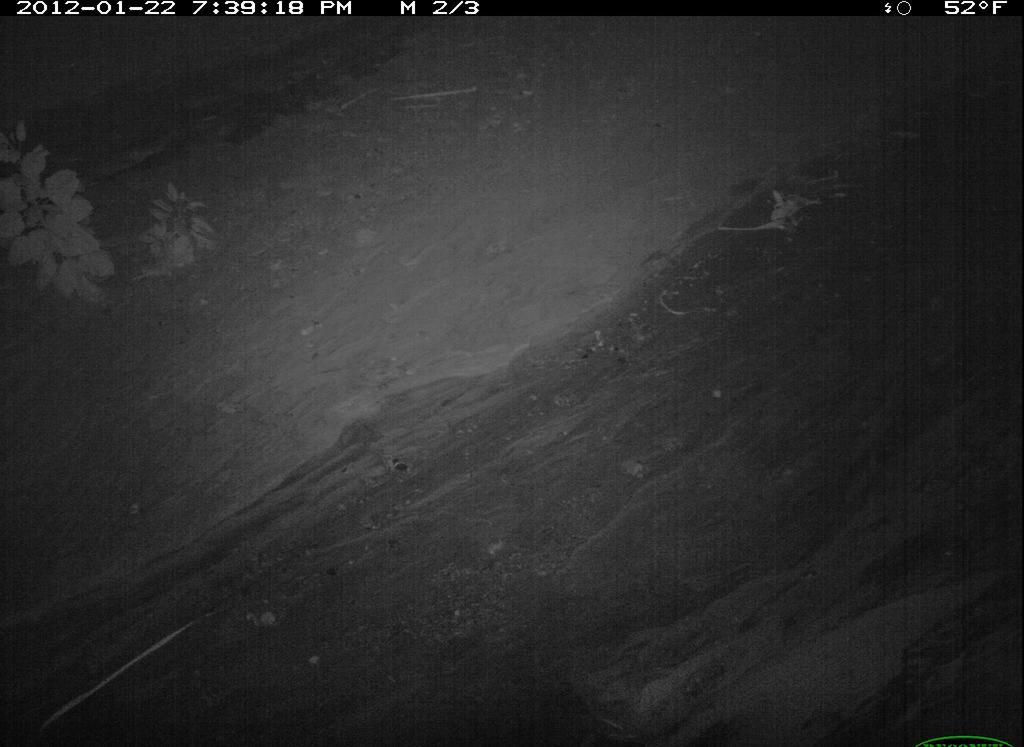bobcat: (2, 1, 1024, 747)
